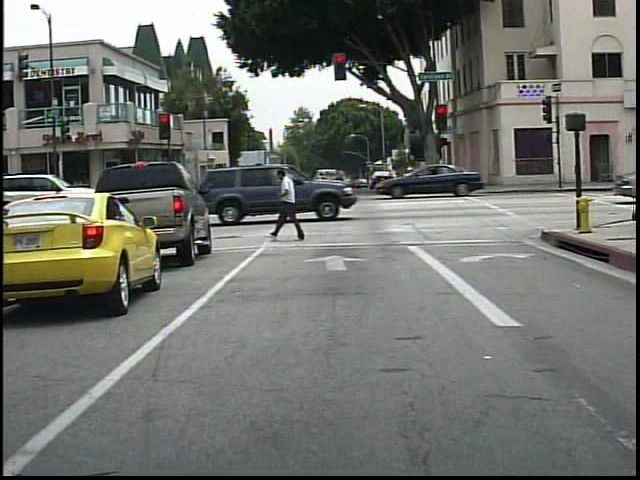person: (273, 165, 313, 243), (262, 166, 289, 208)
